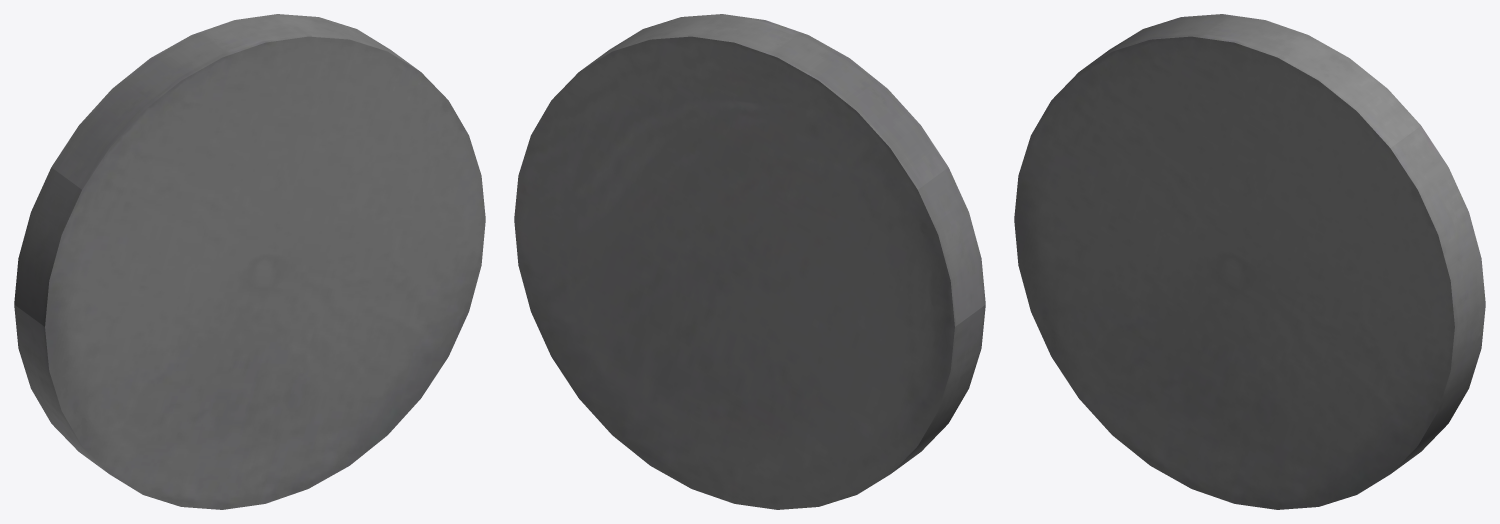
The model's file is stand__base_disc.glb.
The picture shows the model from 3 angles, left to right: view 1: azimuth 30°, elevation 25°; view 2: azimuth 150°, elevation 25°; view 3: azimuth 330°, elevation 25°; orthographic projection.
Parts seen in each view (by area): view 1: geometry_0; view 2: geometry_0; view 3: geometry_0.
Boxes of the visible parts, bbox=[...] form: geometry_0: bbox=[14, 14, 485, 509]; geometry_0: bbox=[514, 14, 985, 509]; geometry_0: bbox=[1014, 14, 1485, 509].
Bounding box in the file's own units: 0.33 × 0.33 × 0.04.
Materials: 1 (1 with a texture image).
